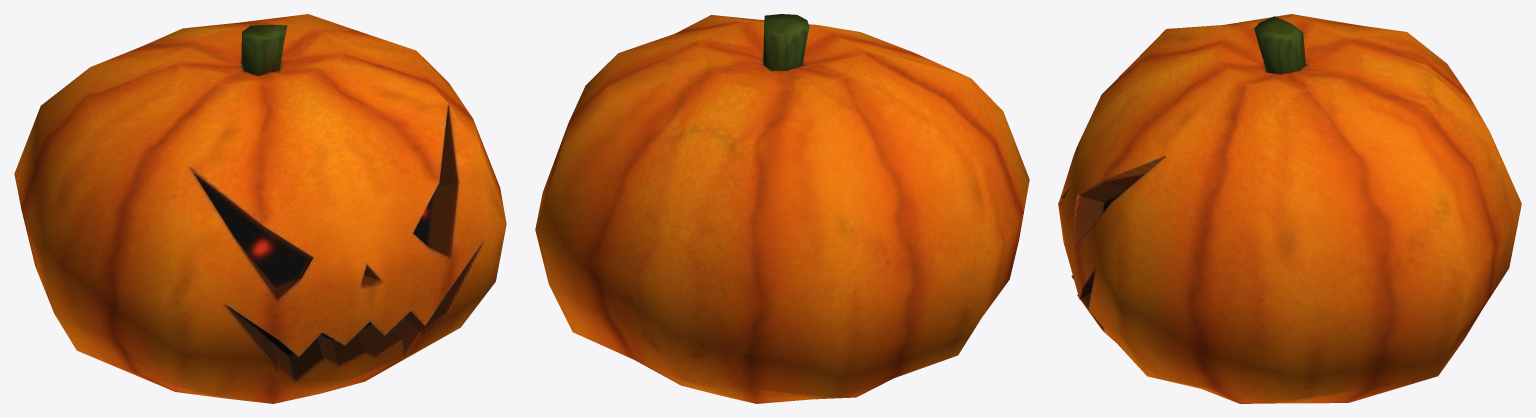
Rendered from pumpkin3.obj.
3 views of the same model, side by side, from view 1: azimuth 30°, elevation 25°; view 2: azimuth 150°, elevation 25°; view 3: azimuth 270°, elevation 25° (orthographic).
Parts seen in each view (by area): view 1: pumpkin5; view 2: pumpkin5; view 3: pumpkin5.
Part boxes in pixels (x1=…): pumpkin5: x1=14, y1=14, x2=506, y2=403; pumpkin5: x1=535, y1=14, x2=1029, y2=403; pumpkin5: x1=1058, y1=14, x2=1521, y2=403.
Size of the model in its own units: 23.98 by 17.66 by 22.22.
1 material, 1 textured.
